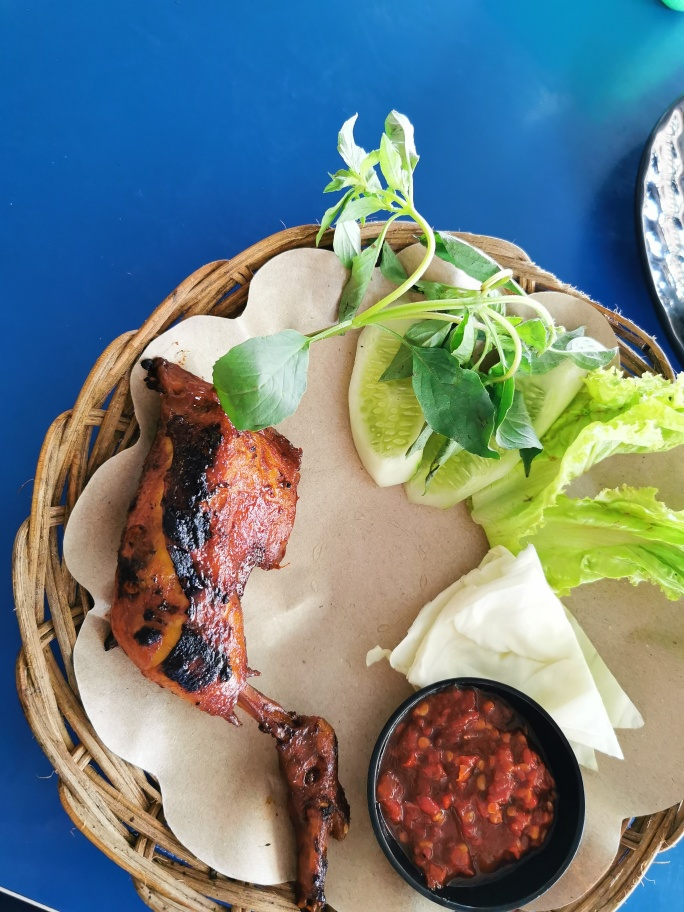ayam bakar: (126, 345, 372, 905)
